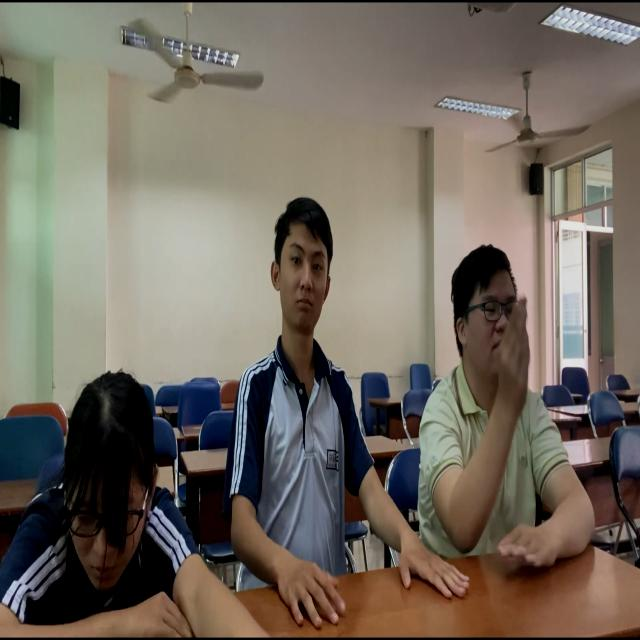raise_hand: (421, 241, 588, 570)
sleep: (1, 357, 225, 640)
